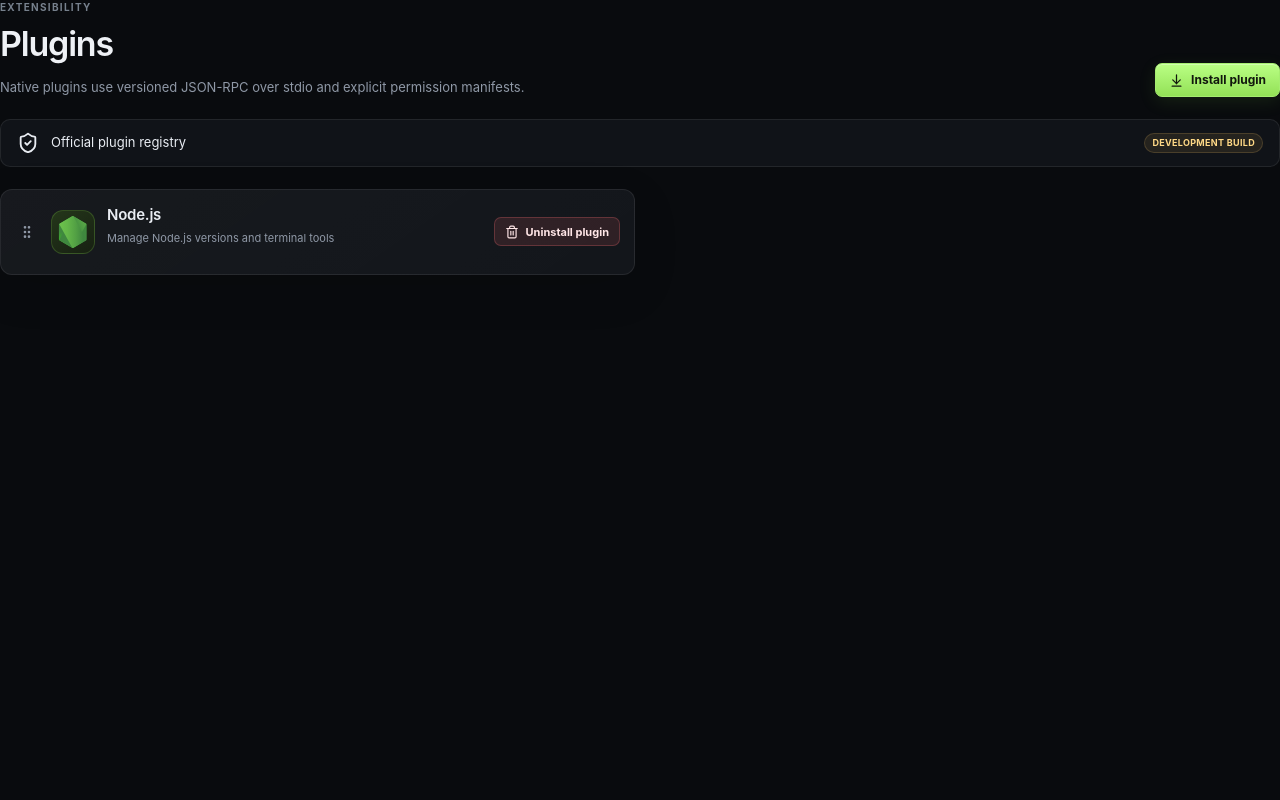
Test case: Torben App shell › shows a compact bundled Node.js card and an uninstall action
Check: the link with aria-label "View details for Node.js" is shown, box [51,205,334,254]
Check: the button with aria-label "Uninstall Node.js" is enabled, box [494,217,620,246]
What coordinates should you click on to do the following:
click the button "Install plugin"
I would click on:
 (1218, 80)
Its box is [1155,63,1279,97].
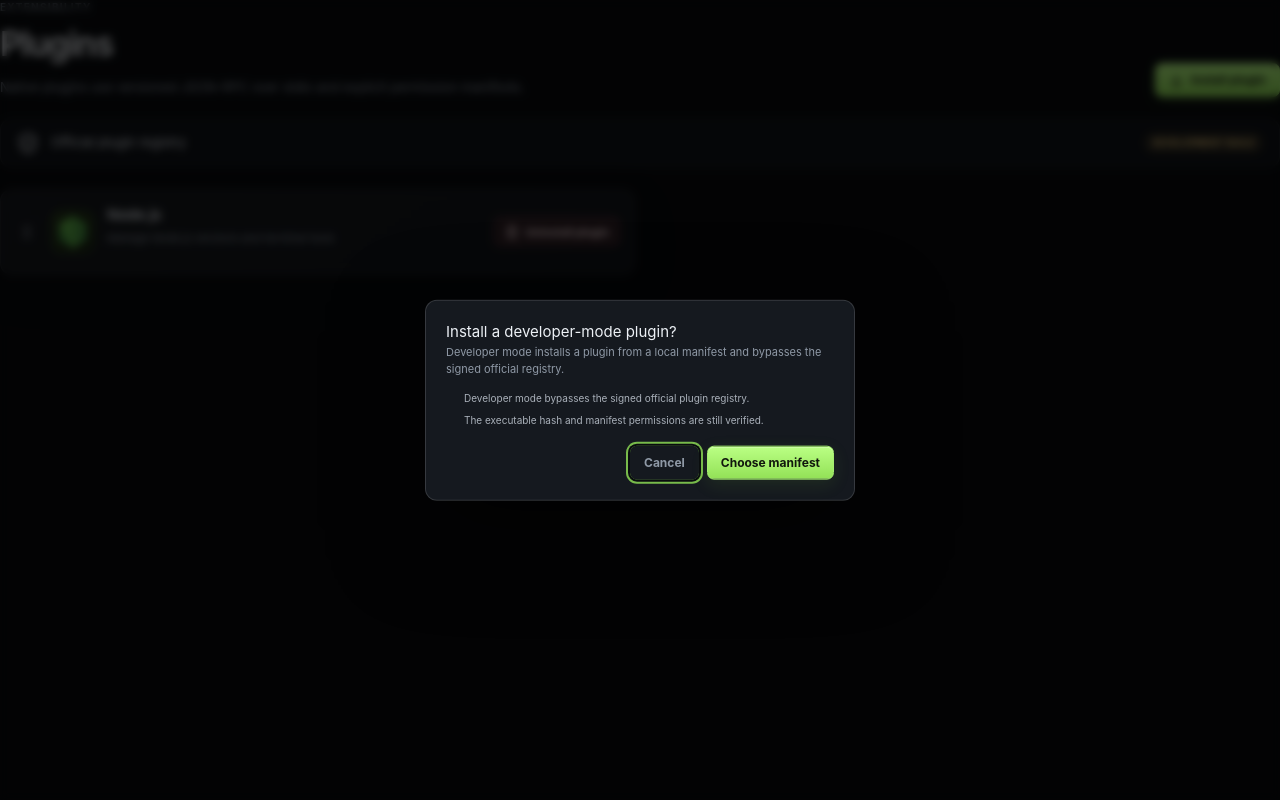
Check: the heading "Install a developer-mode plugin?" is shown, box [446,322,677,341]
Check: the list item "Developer mode bypasses the signed official plugin registry." is shown, box [464,391,749,403]
